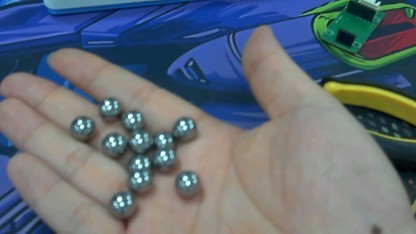ironball: (170, 169, 201, 197), (171, 113, 200, 139), (67, 114, 94, 139), (98, 94, 122, 121), (111, 187, 132, 217), (99, 132, 124, 154), (126, 130, 150, 151), (150, 128, 175, 147), (126, 154, 152, 171), (126, 172, 150, 189), (151, 151, 175, 167), (124, 109, 143, 129)
